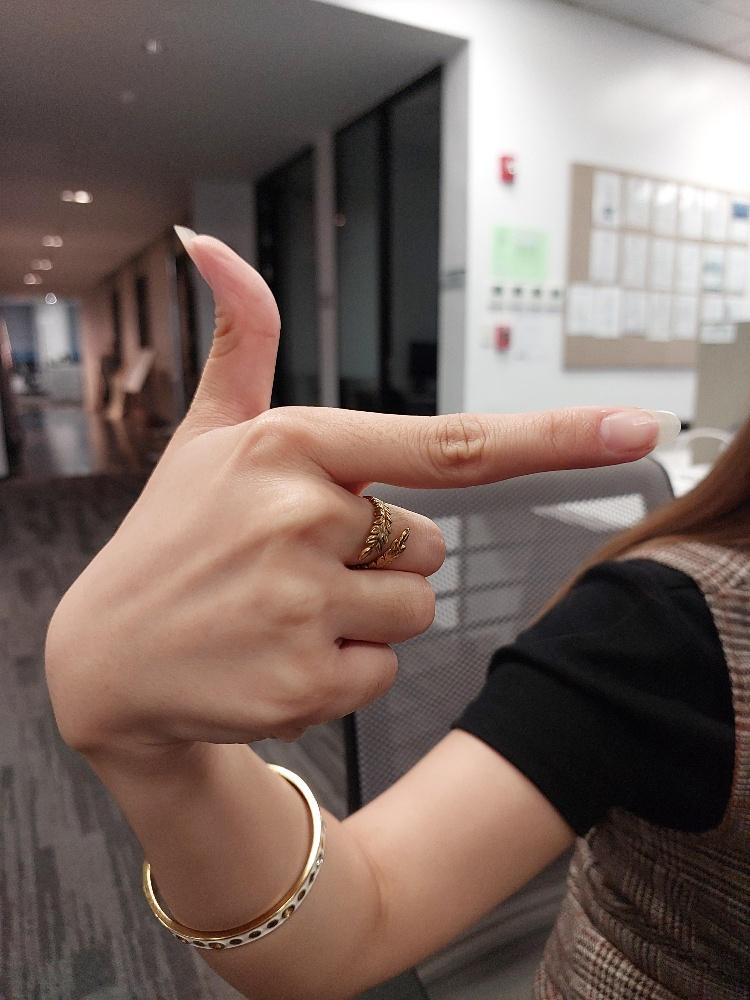g: (39, 219, 683, 750)
